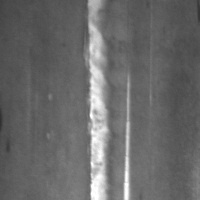scratches: (84, 0, 119, 199), (121, 68, 133, 199)
